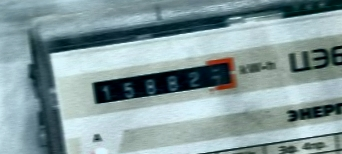1: (100, 81, 112, 100)
2: (187, 68, 200, 86)
5: (120, 79, 134, 97)
7: (209, 71, 222, 85)
8: (143, 75, 156, 93), (166, 72, 178, 89)
screen: (84, 52, 243, 108)
